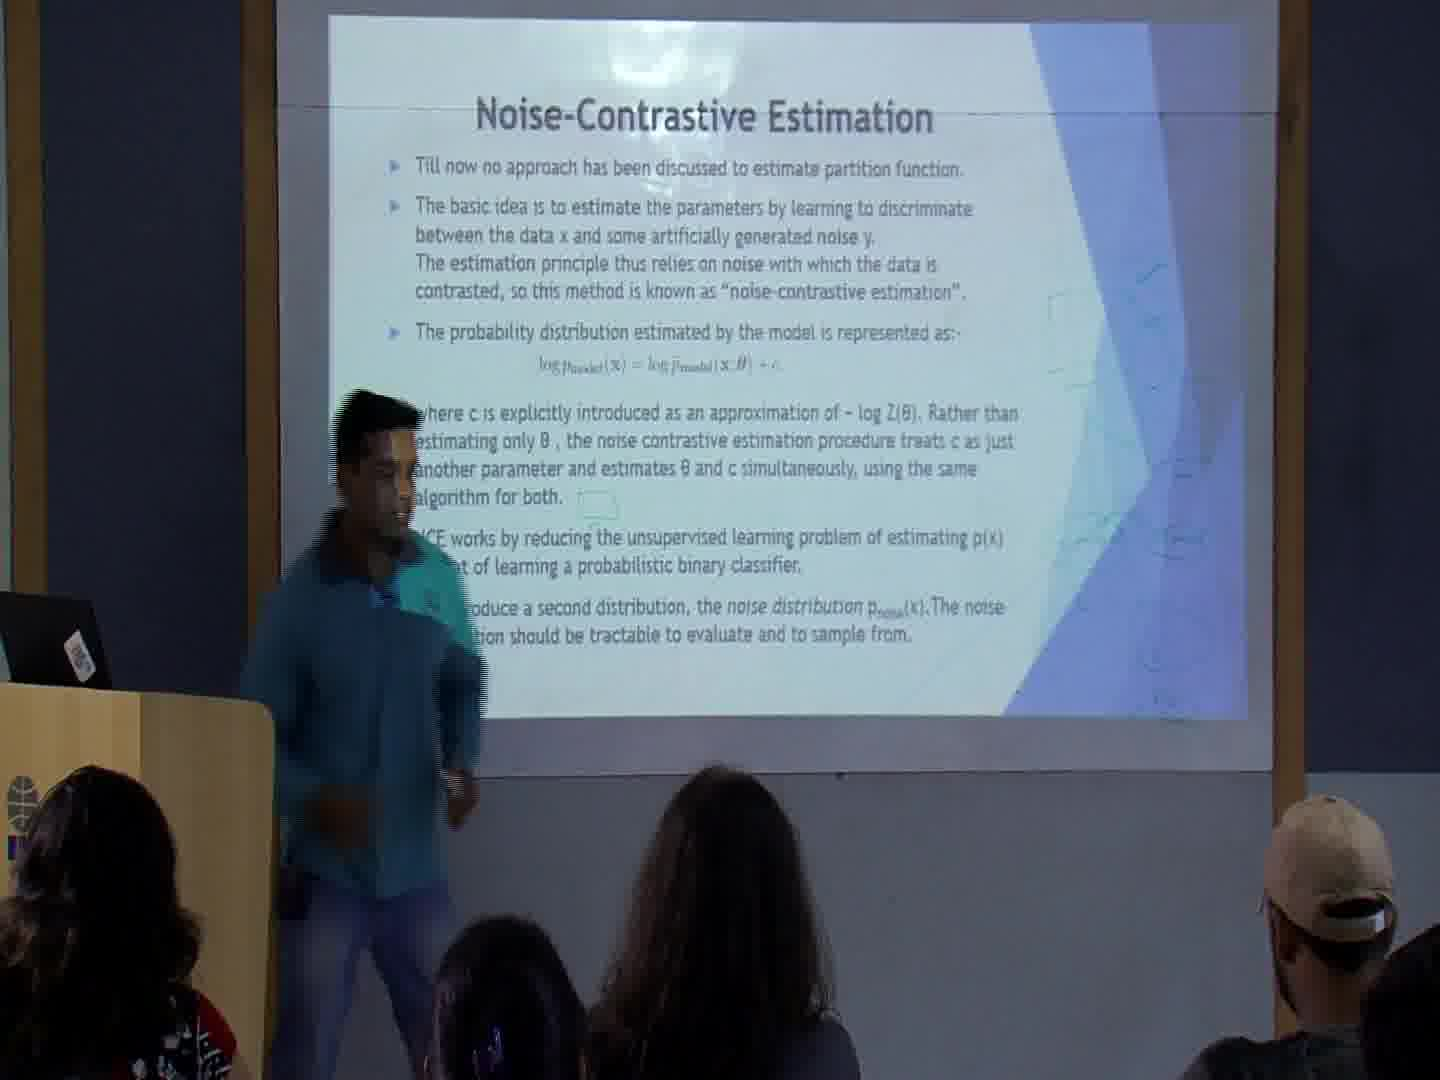eq: (533, 351, 788, 379)
